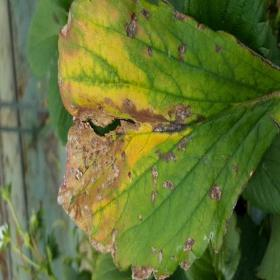Angular Leafspot: (56, 0, 279, 279)
